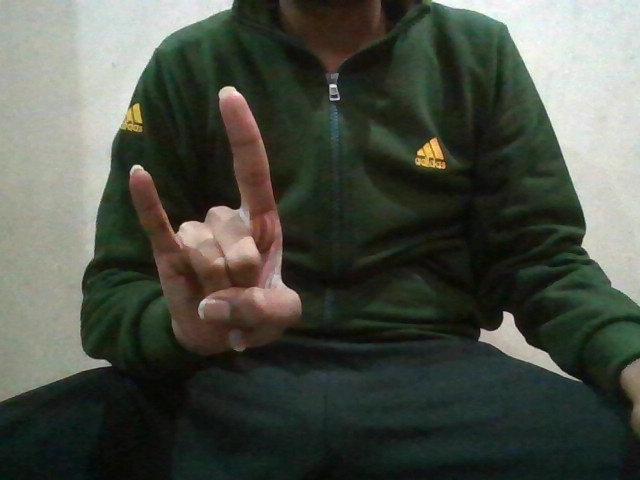U: (122, 134, 304, 349)
